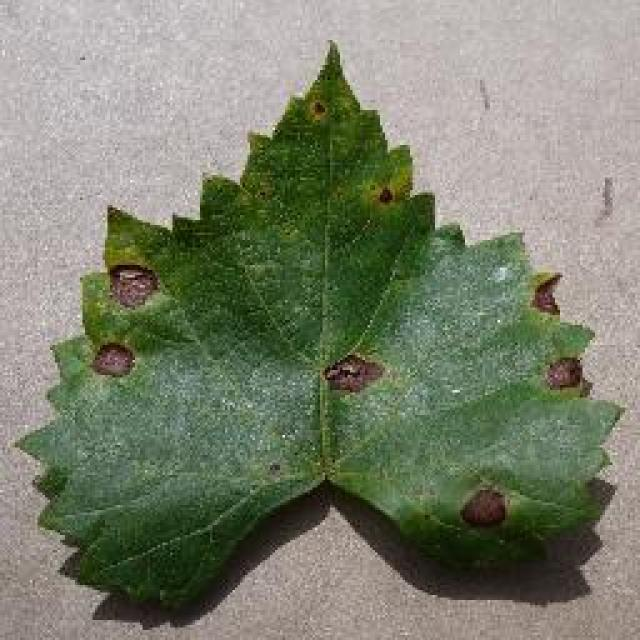Grape___Black_rot: (14, 37, 629, 618)
